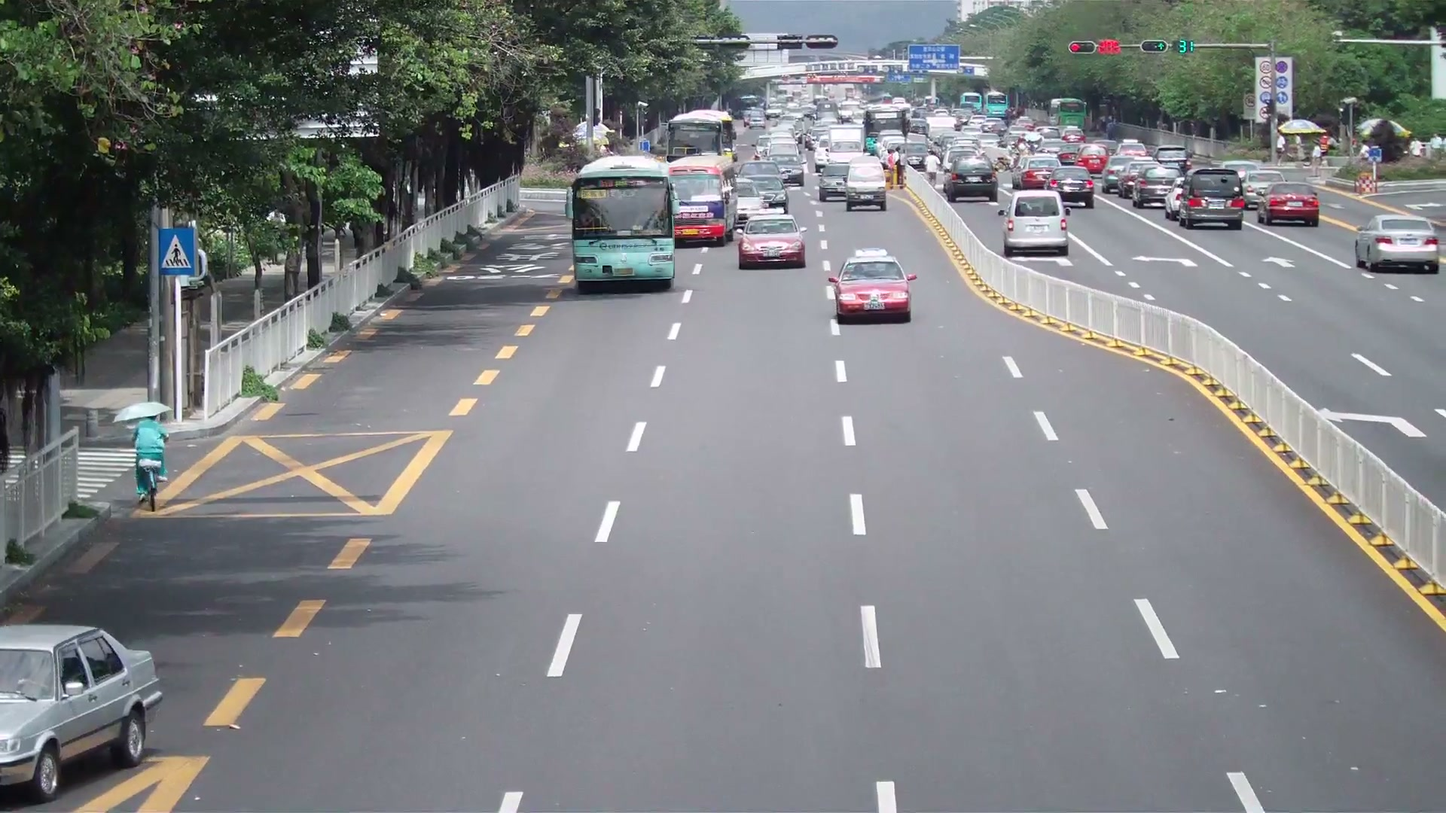bus: (568, 154, 677, 291), (655, 109, 737, 240), (652, 108, 738, 203), (668, 156, 736, 245), (652, 108, 738, 174)
car: (0, 621, 164, 803), (830, 249, 914, 325), (1354, 213, 1441, 273), (1165, 169, 1247, 230), (1002, 190, 1070, 258), (736, 213, 806, 269), (944, 155, 998, 203), (842, 157, 888, 213), (1261, 185, 1319, 227), (1132, 166, 1183, 206), (1054, 168, 1094, 209), (1242, 174, 1285, 207), (817, 161, 851, 202)
pedestrian: (132, 412, 168, 512)
